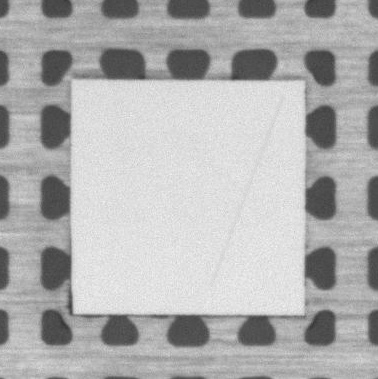DIE_CRACK: (210, 96, 282, 287)
